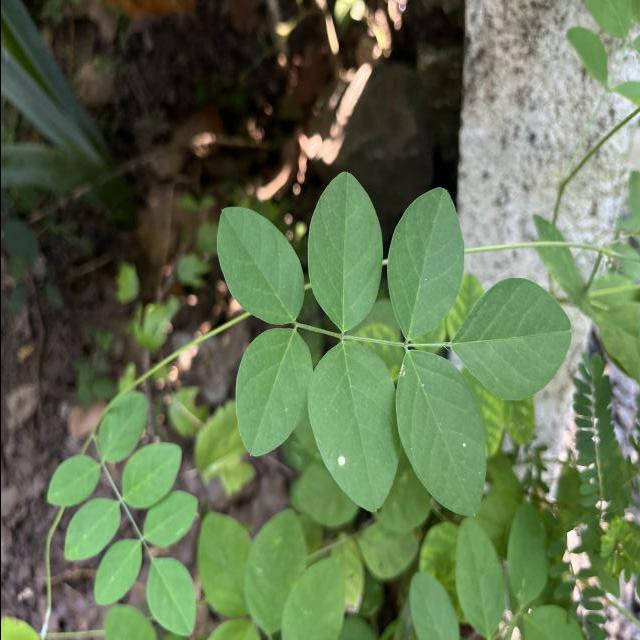Clitoria ternatea: (306, 338, 400, 514), (393, 348, 486, 518), (448, 276, 572, 402), (306, 170, 383, 332), (384, 186, 464, 340), (214, 205, 304, 327), (234, 325, 314, 458)
